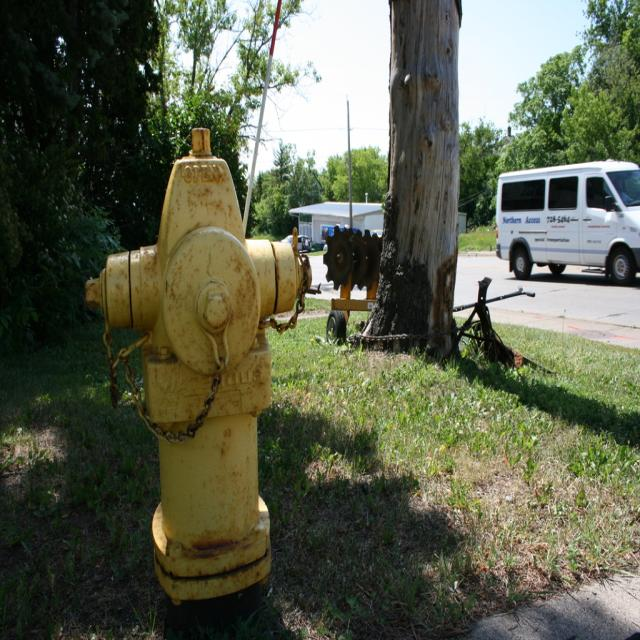fire_hydrant: (86, 126, 313, 622)
